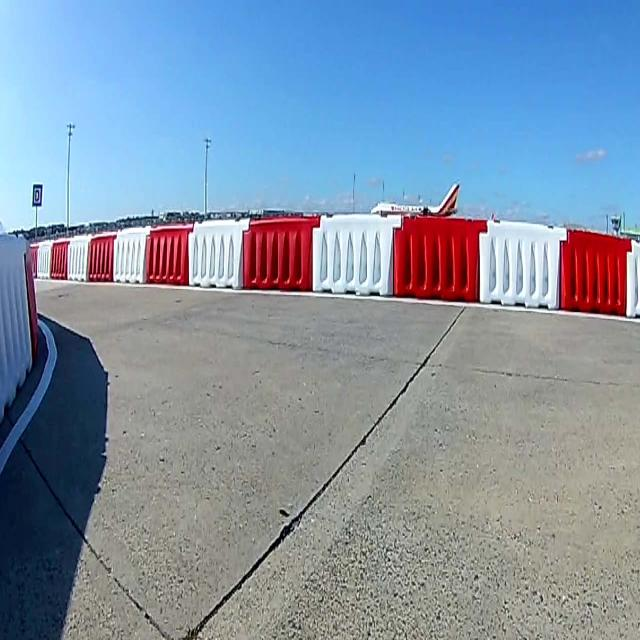durak: (32, 184, 42, 206)
